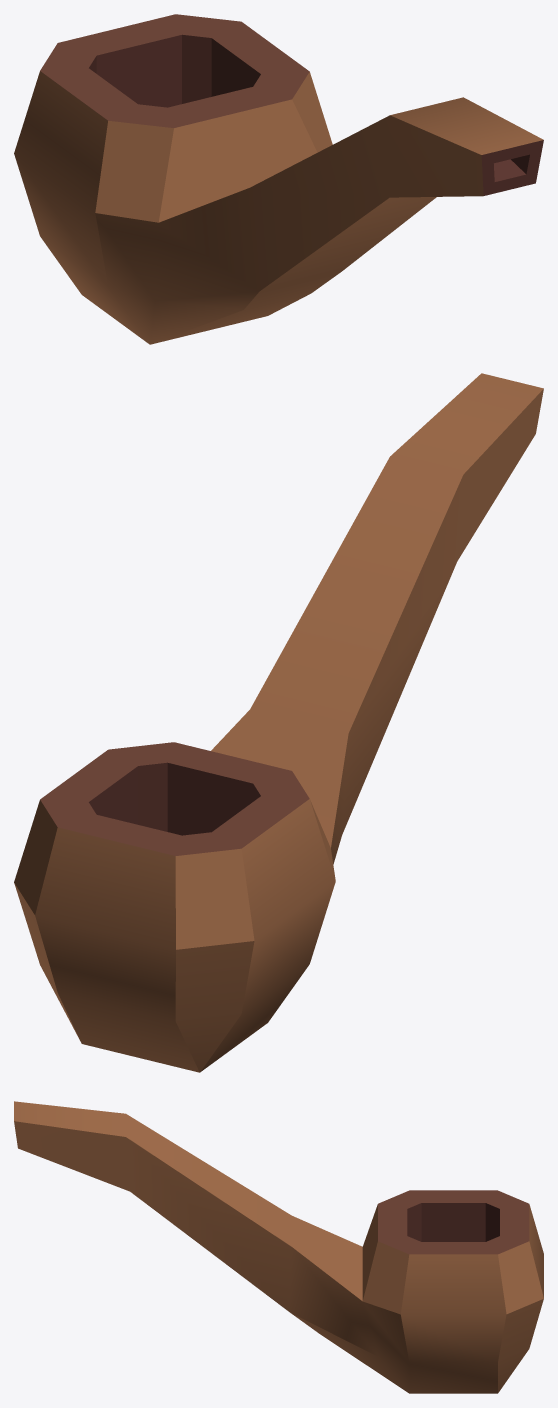
Rendered from wooden_pipe.fbx.
3 views of the same model, one above another, from view 1: azimuth 30°, elevation 25°; view 2: azimuth 150°, elevation 25°; view 3: azimuth 270°, elevation 25° (orthographic). The views are drawn at different scales.
Visible parts, largest first — view 1: wooden_pipe; view 2: wooden_pipe; view 3: wooden_pipe.
Boxes of the visible parts, bbox=[...] form: wooden_pipe: bbox=[14, 14, 543, 344]; wooden_pipe: bbox=[14, 373, 543, 1072]; wooden_pipe: bbox=[14, 1101, 543, 1393].
Bounding box in the file's own units: 19.83 × 31.93 × 58.17.
